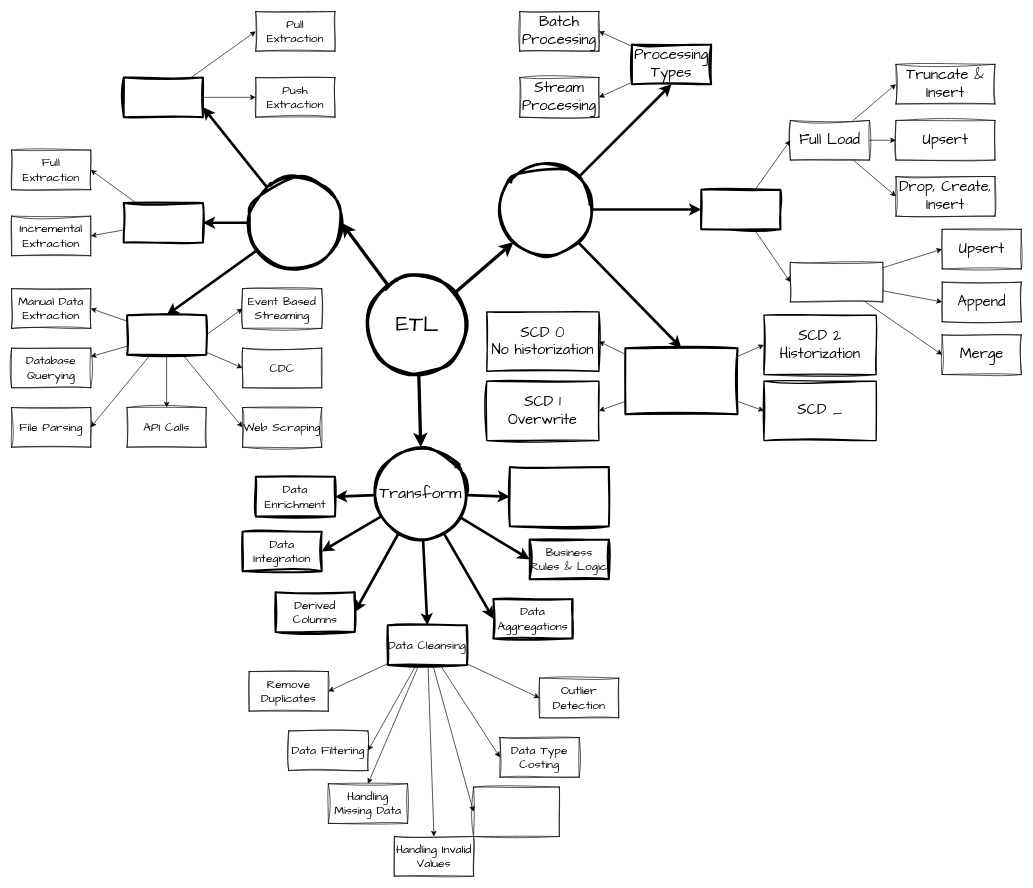
This 1033x888 diagram has some shape labels left out. Here are the shapes that lost their labels. From the top down, the centre of each, then its label:
At point (163, 97): "Extraction methods".
At point (163, 222): "Extraction types".
At point (295, 222): "Extraction".
At point (545, 209): "Load".
At point (740, 209): "Load Methods".
At point (836, 282): "Incremental Load".
At point (166, 334): "Extract Techniques".
At point (681, 381): "Slowly Changing Dimensions (SCD)".
At point (559, 496): "Data Normalization & Standarization".
At point (516, 811): "Handling Unwanted spaces".
